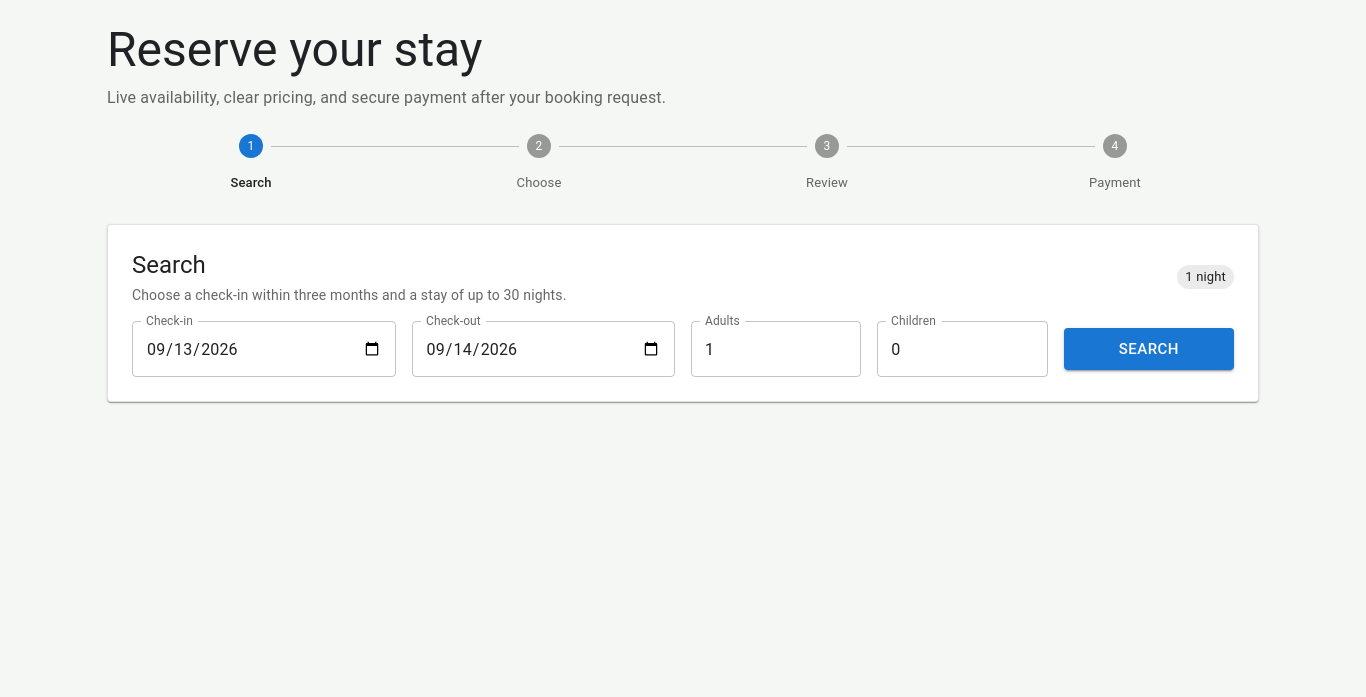
it: PortalBookingPage anonymous checkout › never pre-ticks a consent box
This screenshot has width=1366, height=697.
Click the button "Search" at x=1149, y=349, box x1=1064 y1=328 x2=1234 y2=370
(page scrolled)
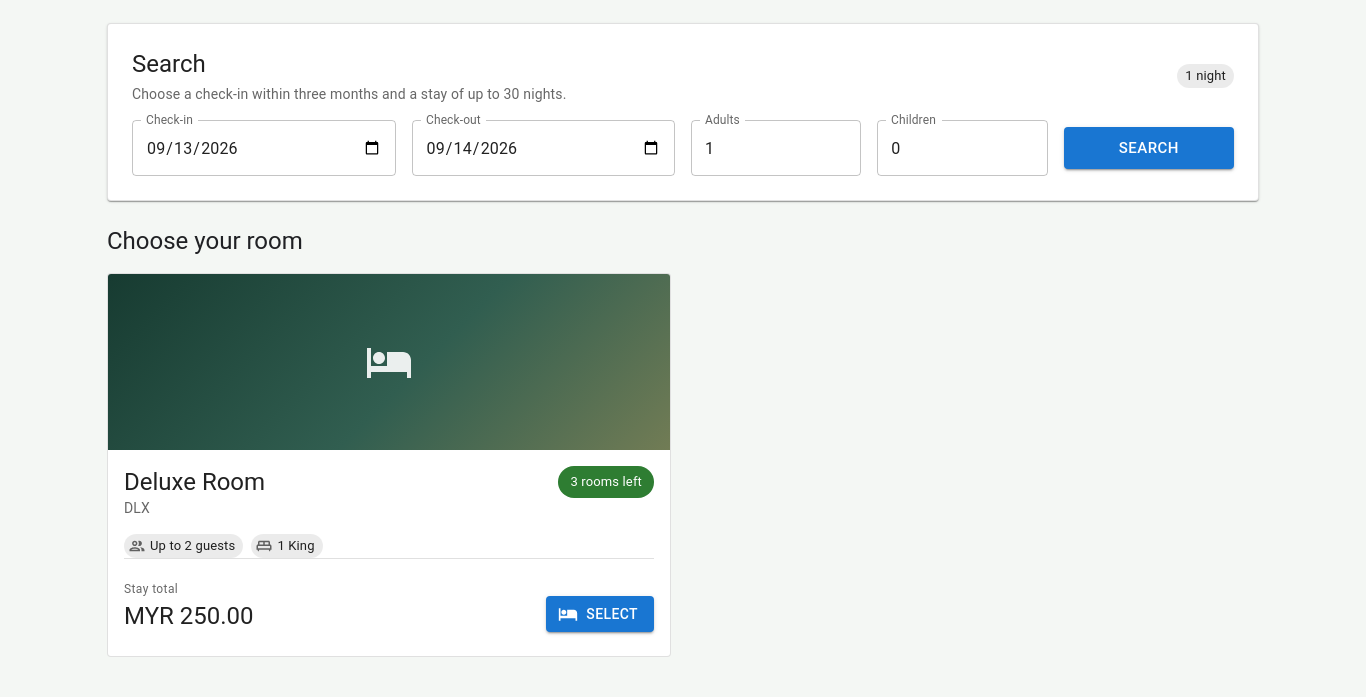
Click the button "Select" at x=600, y=614, box x1=546 y1=596 x2=654 y2=632
(page scrolled)
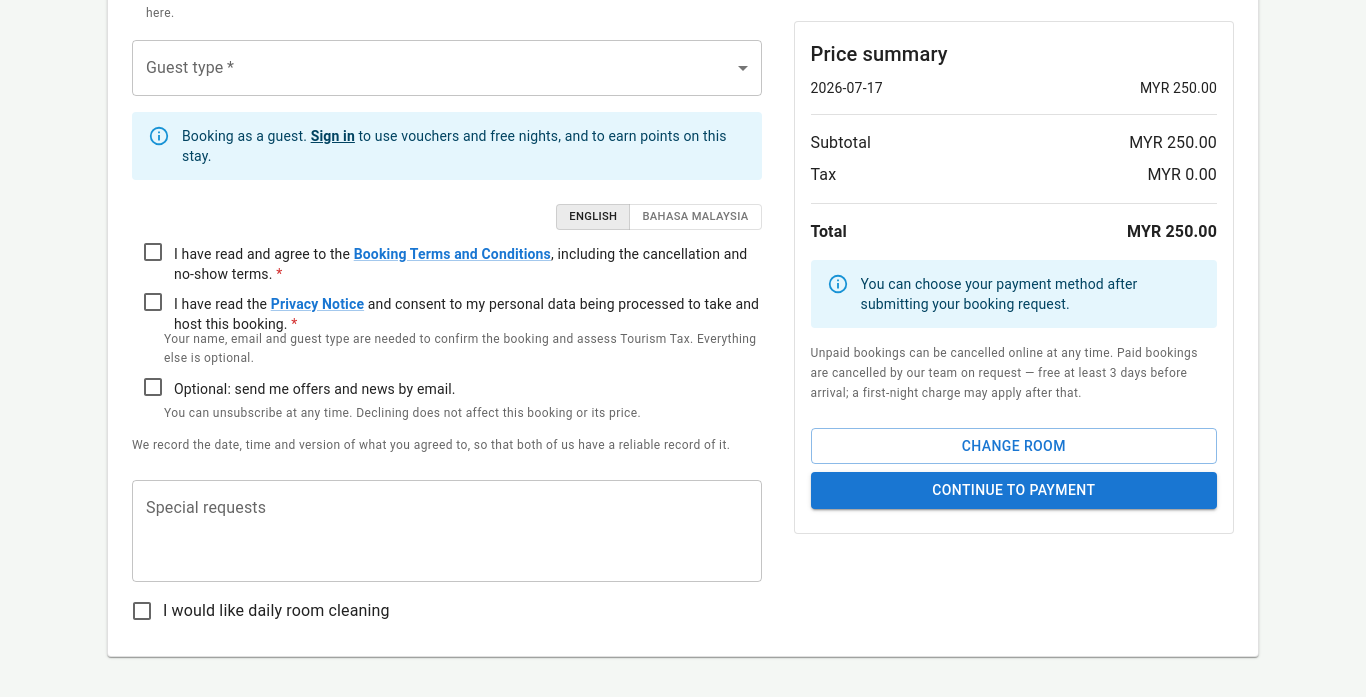
Result: the checkbox named "I have read and agree to the Booking Terms and Conditions, i" is not checked at x1=132 y1=238 x2=762 y2=284
Result: the checkbox named "I have read the Privacy Notice and consent to my personal da" is not checked at x1=132 y1=288 x2=762 y2=334
Result: the checkbox labelled "Optional: send me offers and news by email." is not checked at x1=132 y1=373 x2=456 y2=408
